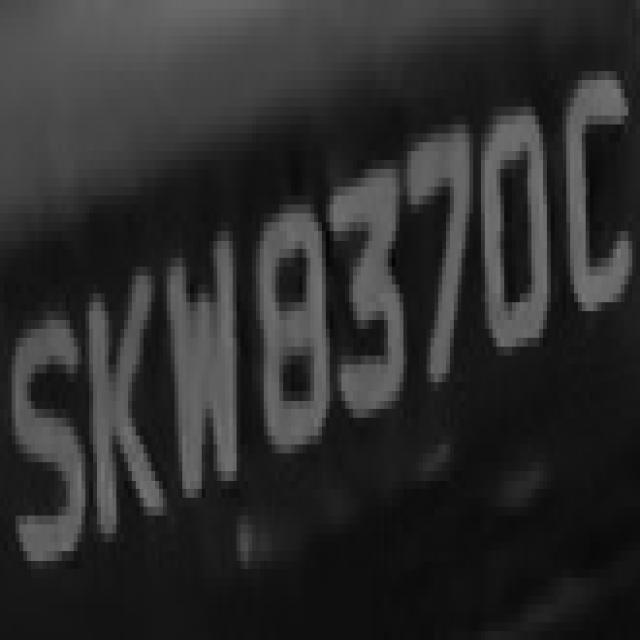0: (473, 89, 547, 391)
3: (310, 151, 415, 436)
7: (396, 116, 477, 436)
8: (240, 178, 334, 489)
C: (559, 53, 636, 329)
K: (78, 231, 170, 578)
S: (8, 276, 89, 614)
W: (148, 213, 248, 524)
